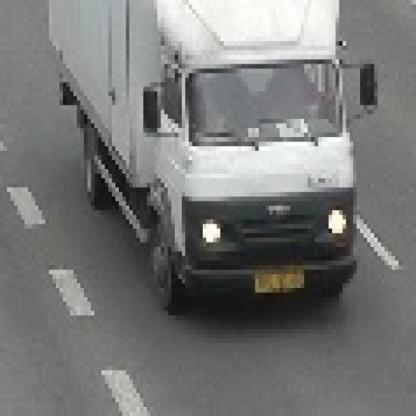truck: (57, 1, 382, 307)
